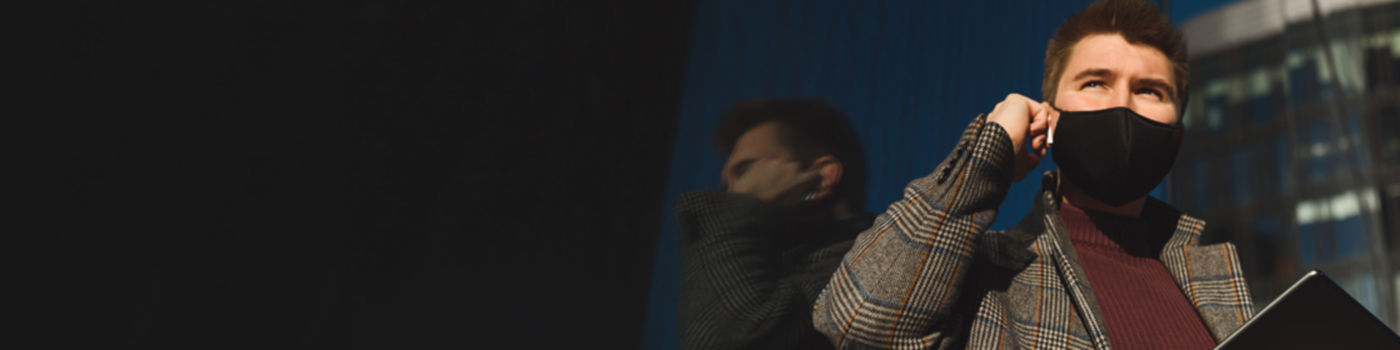earphone: (1037, 103, 1054, 150)
